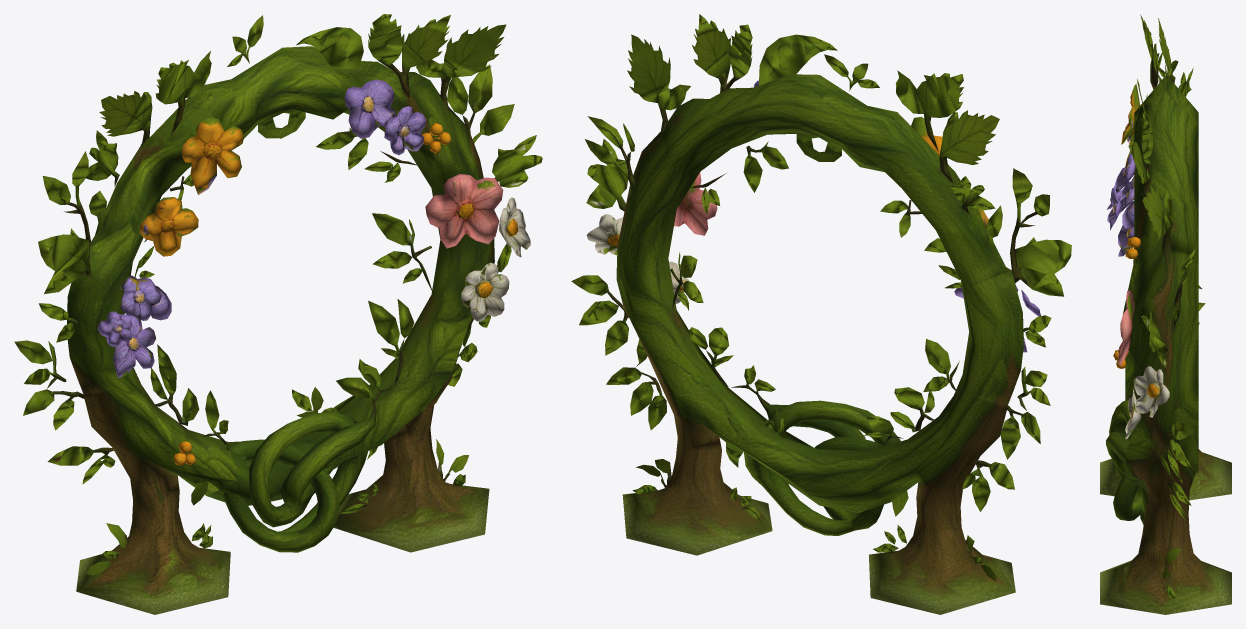
The model's file is selected.glb.
3 views of the same model, side by side, from view 1: azimuth 30°, elevation 25°; view 2: azimuth 150°, elevation 25°; view 3: azimuth 270°, elevation 25° (orthographic). The views are drawn at different scales.
Parts seen in each view (by area): view 1: tripo_node_6fe14d30-7f68-43cd-8546-21caddfbfe63; view 2: tripo_node_6fe14d30-7f68-43cd-8546-21caddfbfe63; view 3: tripo_node_6fe14d30-7f68-43cd-8546-21caddfbfe63.
Boxes of the visible parts, x1,y1,x2,y2 form: tripo_node_6fe14d30-7f68-43cd-8546-21caddfbfe63: (14, 14, 542, 614); tripo_node_6fe14d30-7f68-43cd-8546-21caddfbfe63: (571, 14, 1071, 614); tripo_node_6fe14d30-7f68-43cd-8546-21caddfbfe63: (1100, 14, 1231, 614).
Size of the model in its own units: 0.998 by 0.998 by 0.2559.
1 material, 1 textured.
